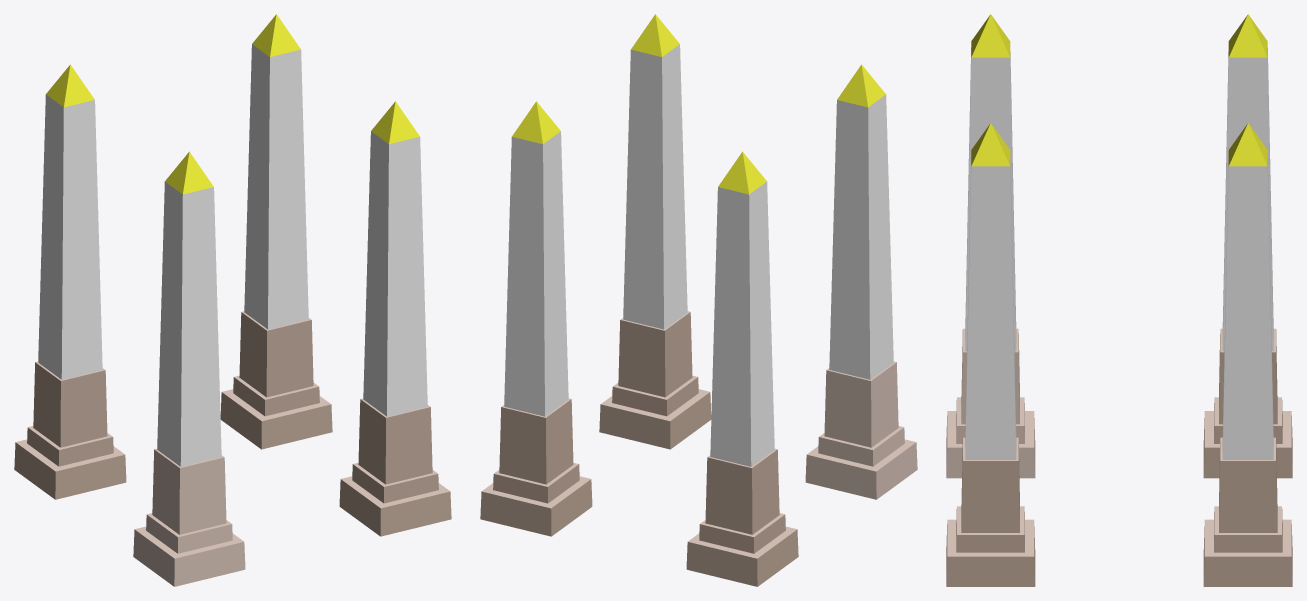
File: obelisk1.fbx
3 views of the same model, side by side, from view 1: azimuth 30°, elevation 25°; view 2: azimuth 150°, elevation 25°; view 3: azimuth 270°, elevation 25° (orthographic). The views are drawn at different scales.
Visible parts, largest first — view 1: obelisk1; view 2: obelisk1; view 3: obelisk1.
Part boxes in pixels (x1,y1,x2,y2): obelisk1: [14, 14, 451, 586]; obelisk1: [480, 14, 917, 586]; obelisk1: [946, 14, 1292, 586].
Bounding box in the file's own units: 405 × 405 × 574.
